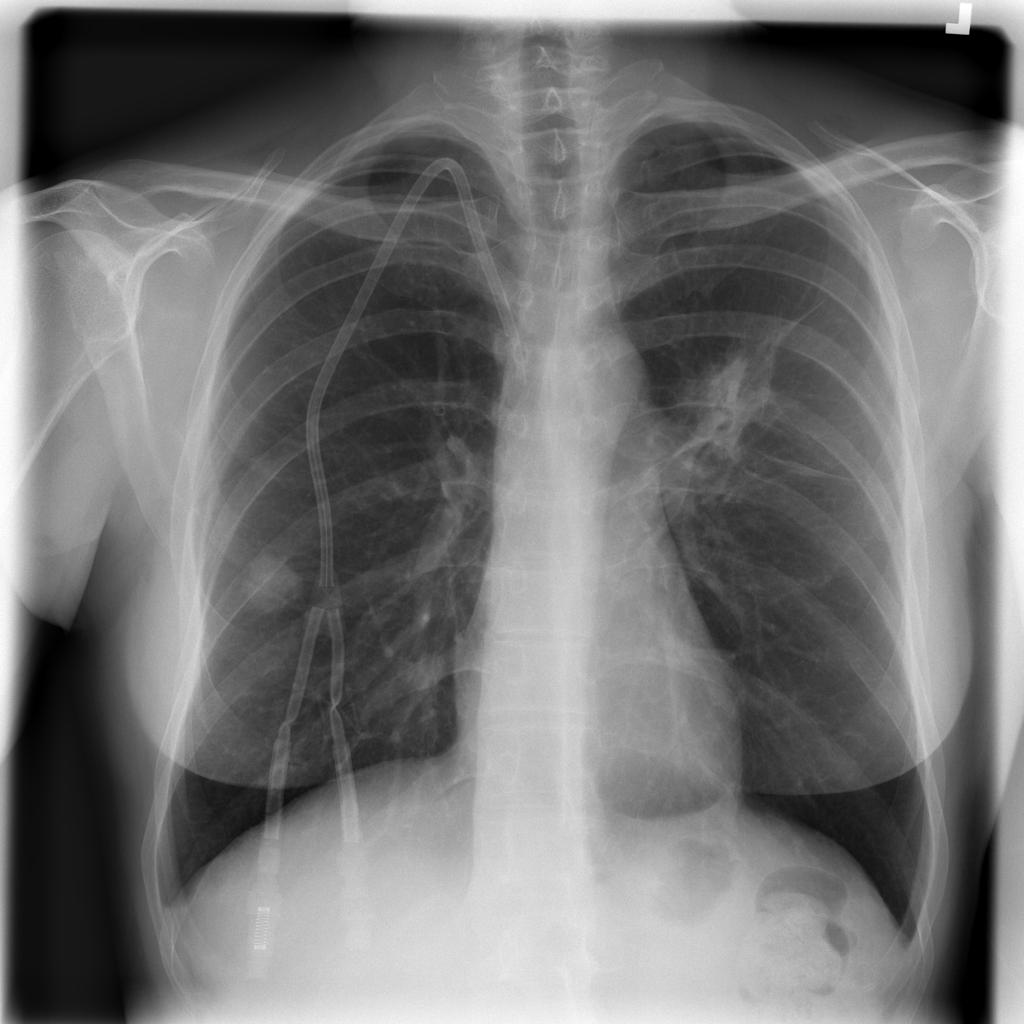nodule: (220, 533, 326, 636)
